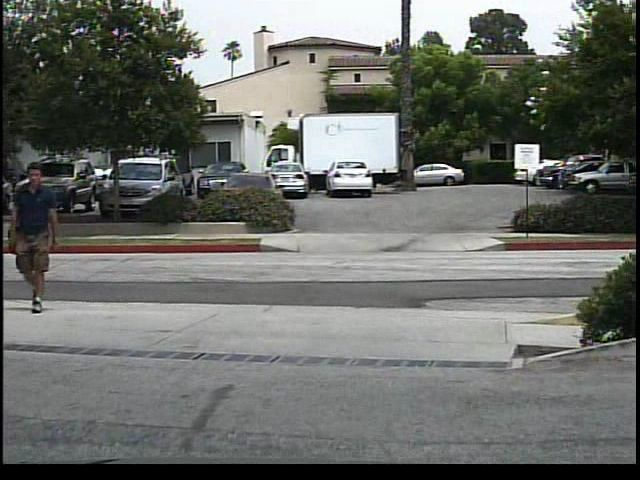person: (15, 161, 65, 316)
